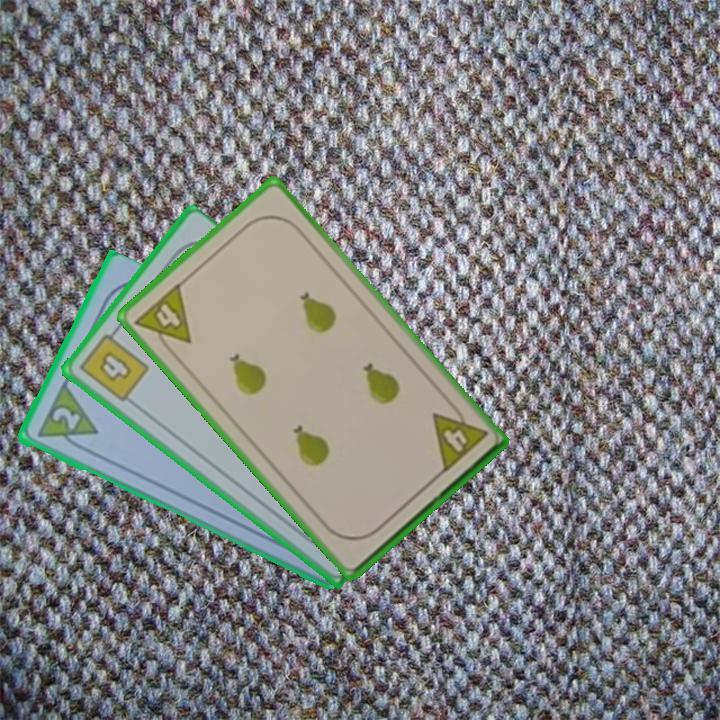2p: (32, 381, 100, 456)
4b: (75, 324, 152, 405)
4p: (131, 279, 194, 360), (428, 397, 490, 476)
